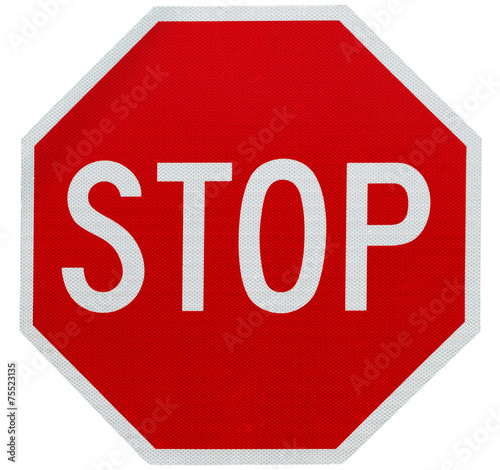StopSign: (19, 5, 481, 464)
